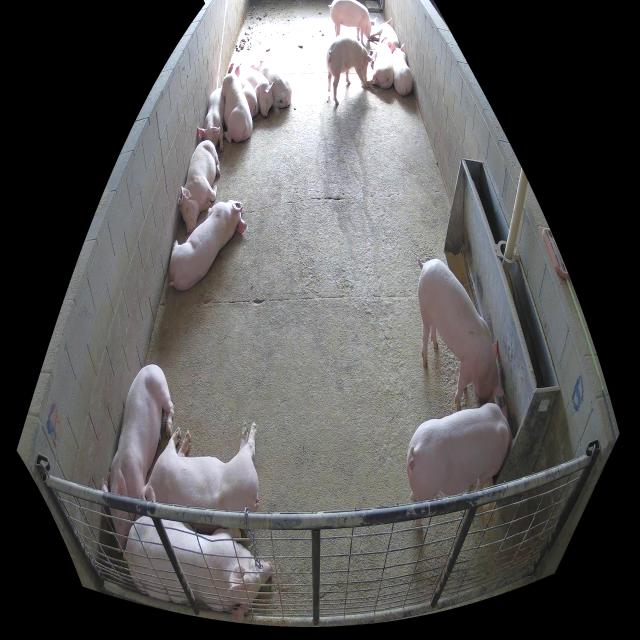pig: (124, 515, 274, 619), (417, 257, 505, 413), (101, 365, 174, 552), (406, 404, 512, 529), (139, 418, 259, 511), (170, 200, 248, 290), (178, 140, 221, 233), (326, 37, 374, 104), (222, 63, 252, 147), (330, 0, 376, 45), (251, 60, 292, 109), (239, 69, 280, 118), (198, 87, 224, 152), (368, 37, 394, 88), (391, 41, 414, 97), (370, 17, 400, 47), (239, 77, 257, 118)
